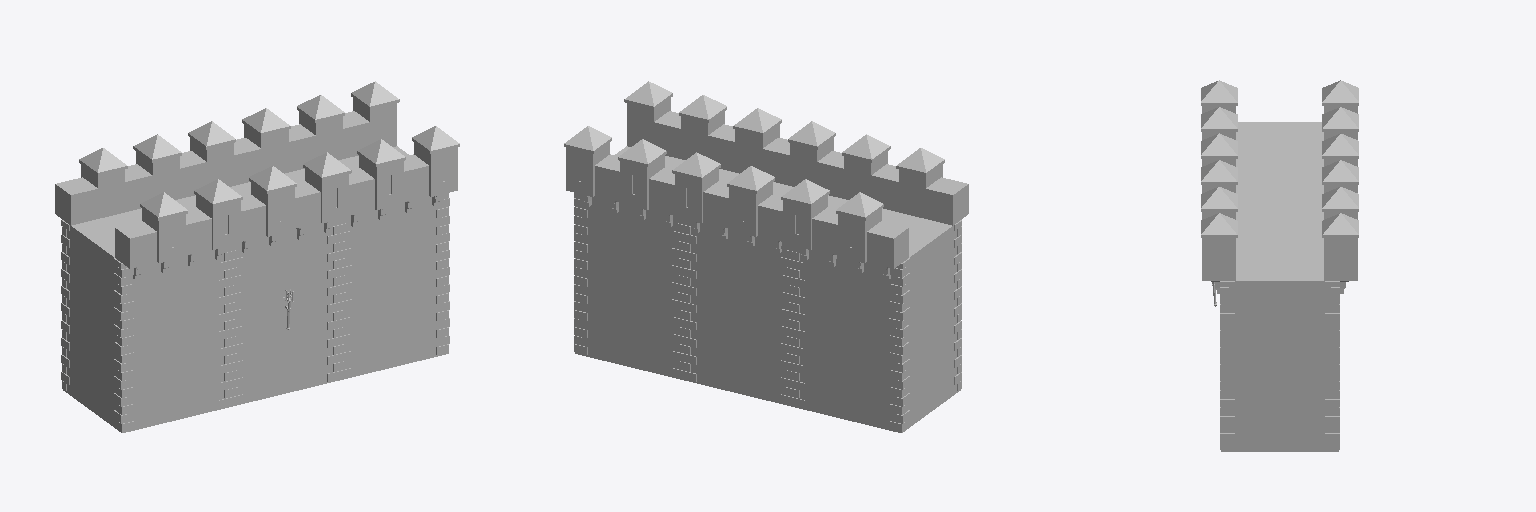
The model's file is StraightWall.obj.
The picture shows the model from 3 angles: view 1: azimuth 30°, elevation 25°; view 2: azimuth 150°, elevation 25°; view 3: azimuth 270°, elevation 25°; orthographic projection.
Visible parts, largest first — view 1: Straight_Cube.000; view 2: Straight_Cube.000; view 3: Straight_Cube.000.
Part boxes in pixels (left/top/right/bottom): Straight_Cube.000: left=55, top=81, right=459, bottom=432; Straight_Cube.000: left=564, top=81, right=968, bottom=432; Straight_Cube.000: left=1201, top=80, right=1358, bottom=451.
Size of the model in its own units: 12.1 by 8.16 by 5.06.